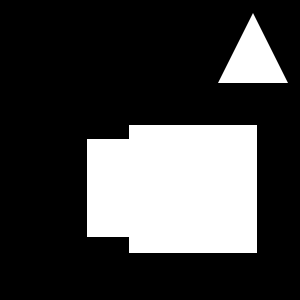circle: (129, 125, 257, 253), (87, 139, 185, 237)
triangle: (218, 13, 288, 83)
